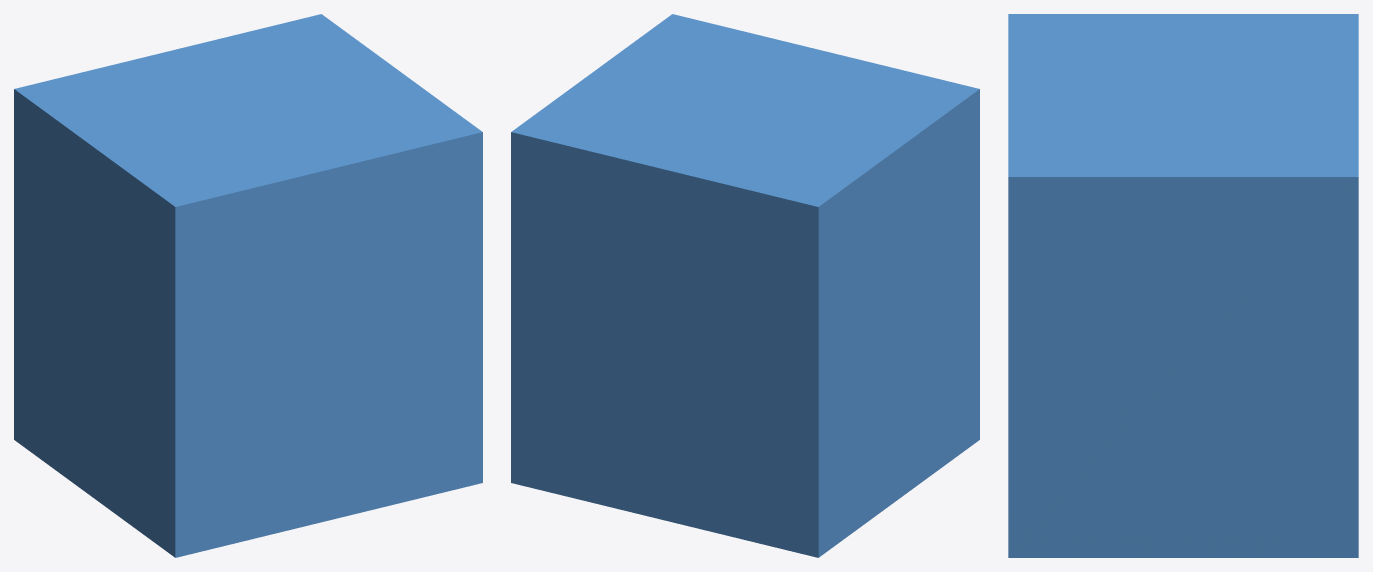
File: authored.glb
3 renders of one model, left to right at view 1: azimuth 30°, elevation 25°; view 2: azimuth 150°, elevation 25°; view 3: azimuth 270°, elevation 25°, orthographic. The views are drawn at different scales.
Parts seen in each view (by area): view 1: A4_PHYSICAL_GLTF_CUBE_20261027; view 2: A4_PHYSICAL_GLTF_CUBE_20261027; view 3: A4_PHYSICAL_GLTF_CUBE_20261027.
Part boxes in pixels (x1,y1,x2,y2): A4_PHYSICAL_GLTF_CUBE_20261027: (14,14,482,557); A4_PHYSICAL_GLTF_CUBE_20261027: (511,14,979,557); A4_PHYSICAL_GLTF_CUBE_20261027: (1008,14,1358,557).
Bounding box in the file's own units: 1.1 × 1.2 × 1.
